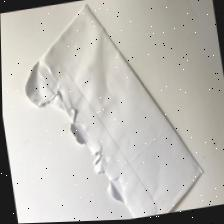paper: (10, 0, 214, 224)
